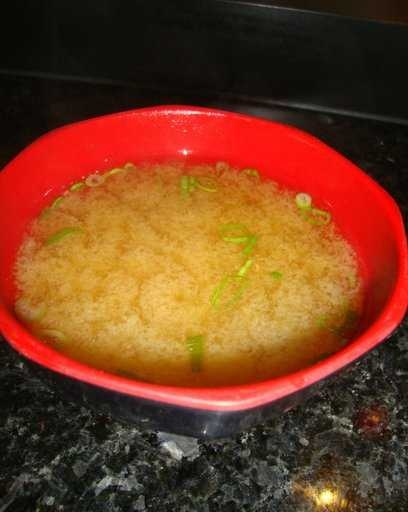soup: (20, 160, 377, 371)
